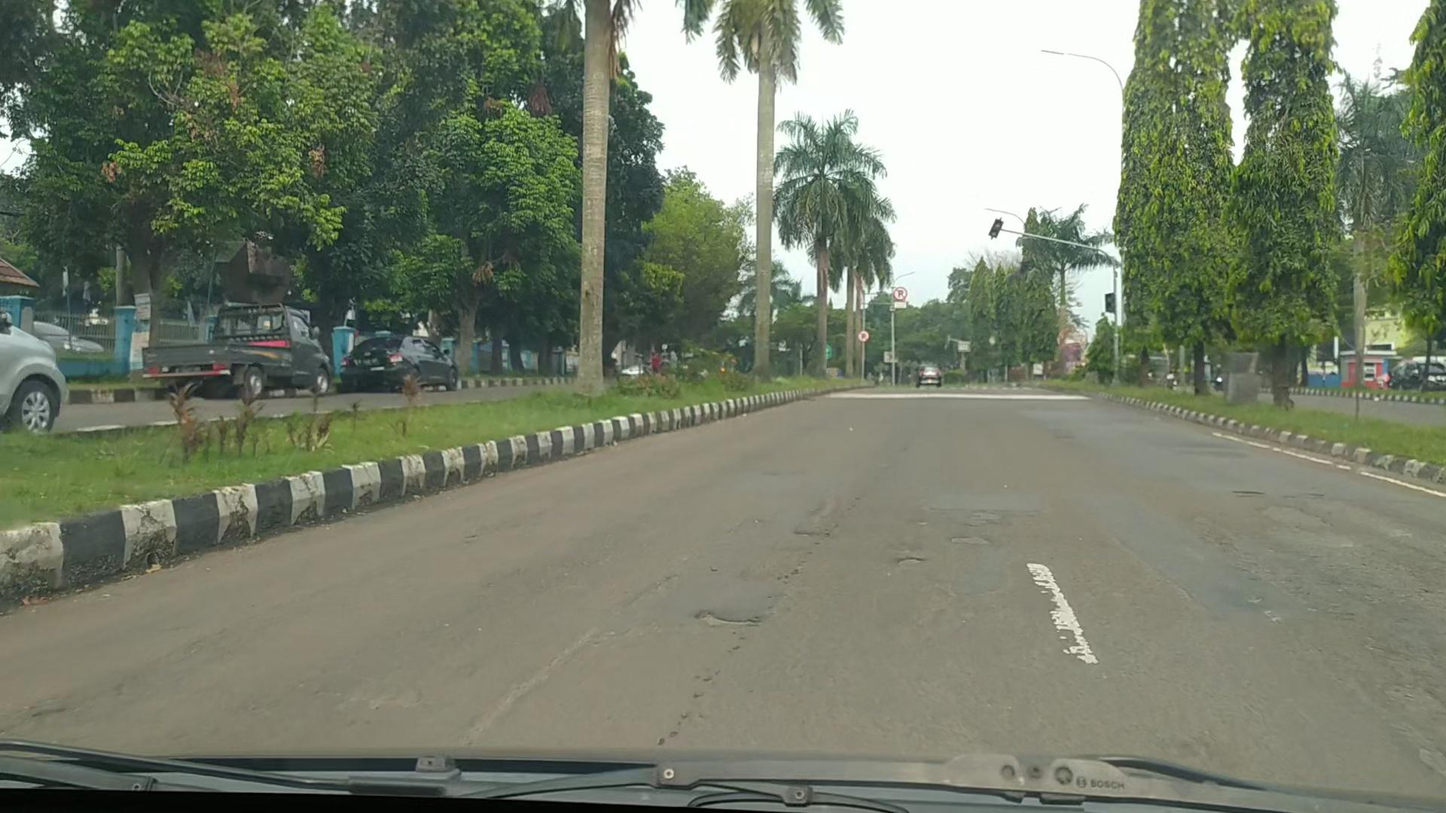pothole: (693, 610, 762, 626), (948, 536, 990, 545), (895, 556, 924, 565), (1232, 490, 1264, 495)
